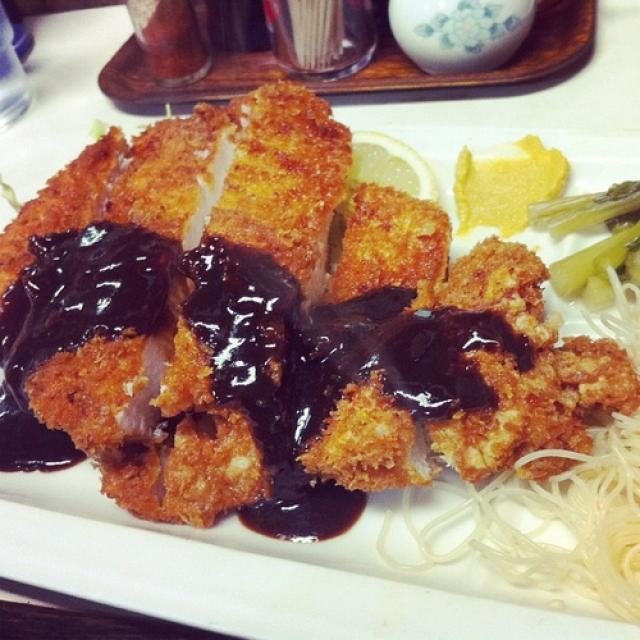鸡肉料理 含炸鸡: (11, 50, 621, 589)
